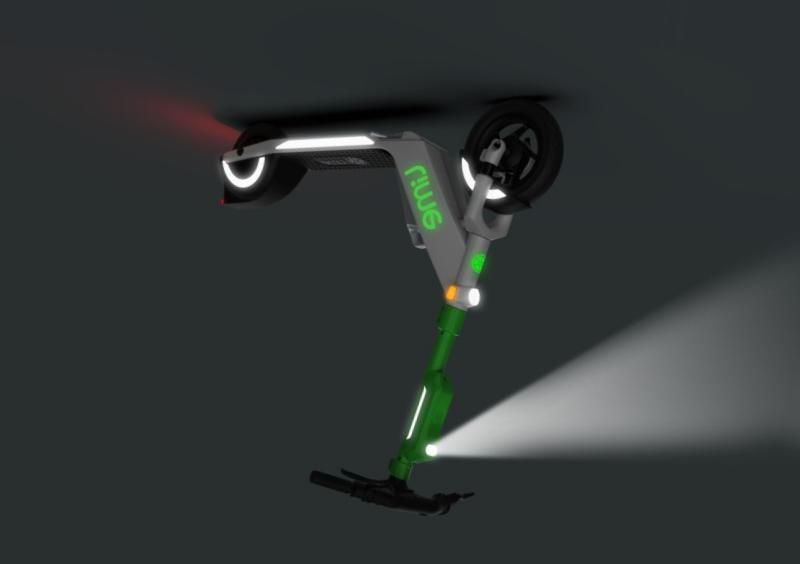scooter: (216, 102, 564, 519)
